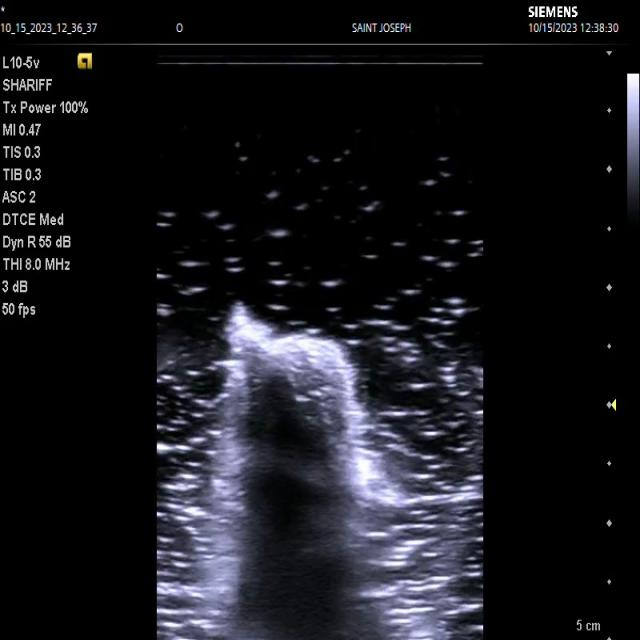tissue: (213, 304, 410, 640)
